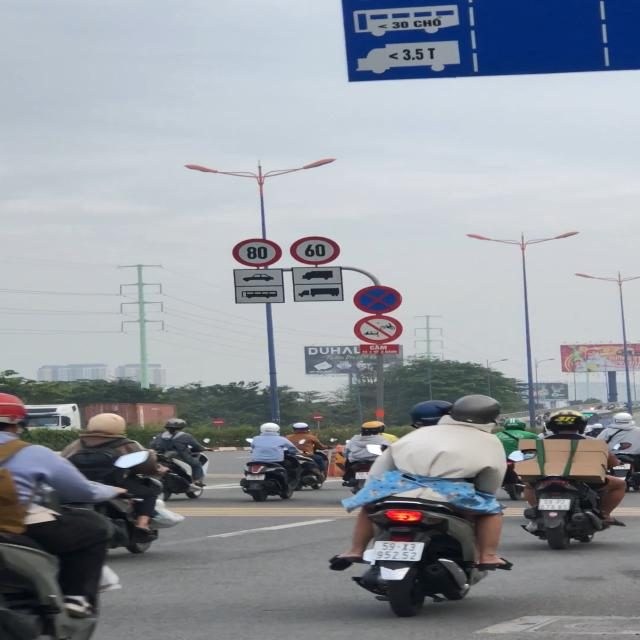Bien bao cam dung xe va do xe: (352, 285, 406, 315)
Bien bao toc do toi da cho phep: (289, 235, 342, 266), (232, 238, 284, 268)
